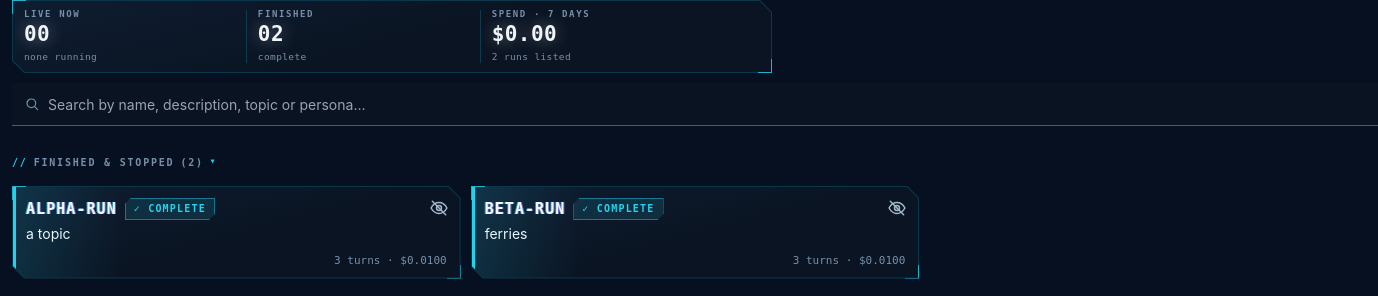
Test: run search › filters on the client without asking the server again
Expected: the text "alpha-run" is shown, [26, 200, 117, 218]
Type "ferr" into the search field. click: (707, 104)
box: [48, 83, 1366, 125]
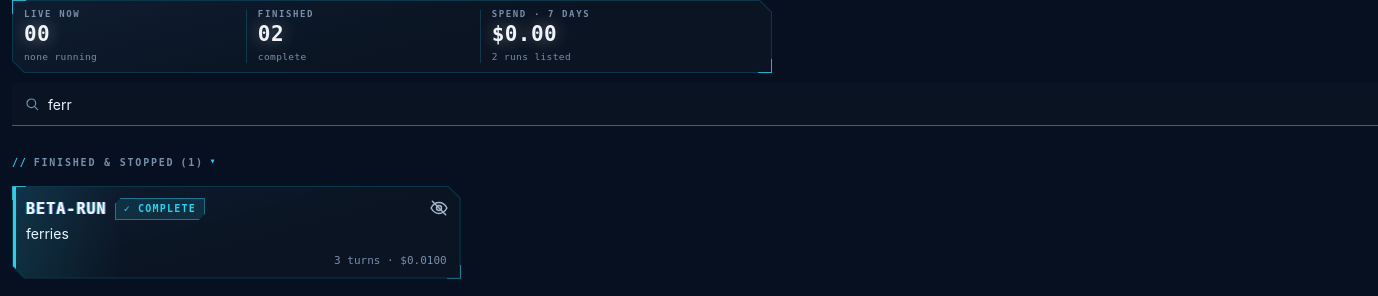
Expected: the text "beta-run" is shown, [26, 200, 107, 218]
Expected: the button "alpha-run" is gone
